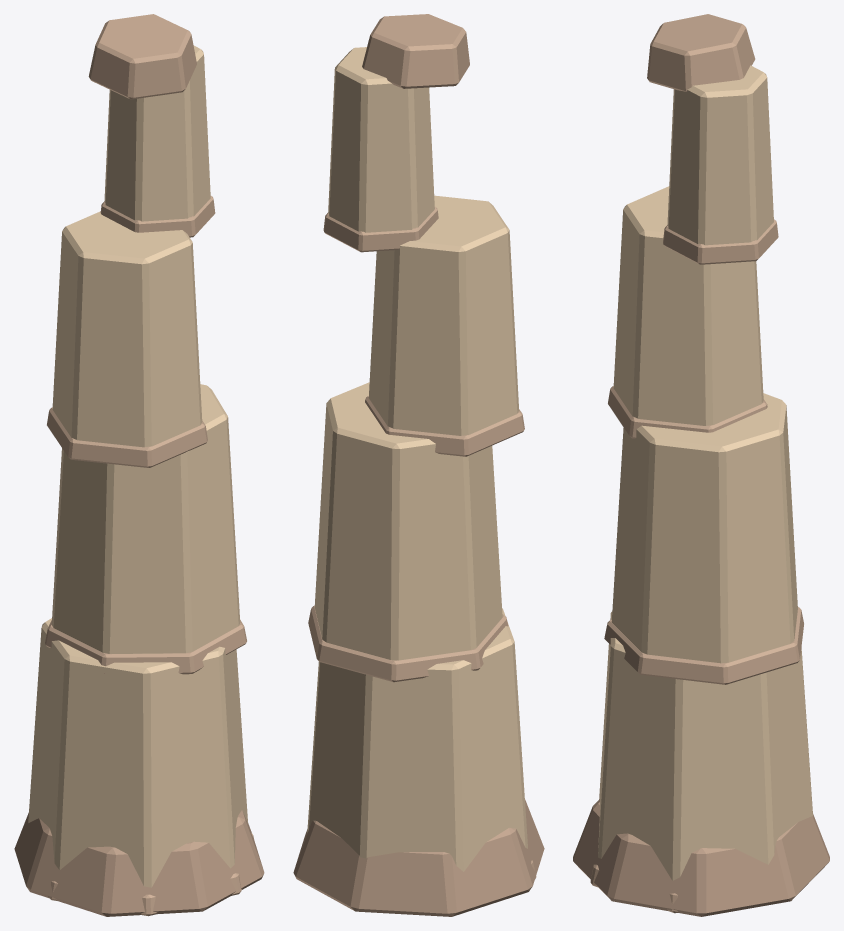
File: mesa_spire_large.glb
The picture shows the model from 3 angles, left to right: view 1: azimuth 30°, elevation 25°; view 2: azimuth 150°, elevation 25°; view 3: azimuth 270°, elevation 25°; orthographic projection.
Parts seen in each view (by area): view 1: Drum1, Drum2, Drum3, Talus, Drum4, Cap, Strata3, Strata2, Strata4, Strata1; view 2: Drum2, Drum1, Drum3, Drum4, Talus, Cap, Strata2, Strata3, Strata4; view 3: Drum2, Drum1, Drum3, Drum4, Talus, Cap, Strata2, Strata4, Strata3.
Boxes of the visible parts, x1,y1,x2,y2 form: Drum1: [28, 618, 247, 887]; Drum2: [51, 384, 240, 653]; Drum3: [52, 211, 202, 447]; Talus: [14, 810, 264, 916]; Drum4: [104, 45, 210, 221]; Cap: [88, 14, 196, 99]; Strata3: [47, 407, 207, 467]; Strata2: [45, 619, 246, 674]; Strata4: [100, 196, 215, 237]; Strata1: [48, 833, 254, 916]; Drum2: [314, 382, 502, 660]; Drum1: [307, 608, 527, 871]; Drum3: [368, 195, 519, 435]; Drum4: [328, 47, 434, 232]; Talus: [293, 799, 544, 916]; Cap: [362, 14, 469, 88]; Strata2: [308, 605, 508, 682]; Strata3: [365, 396, 524, 456]; Strata4: [323, 207, 438, 252]; Drum2: [611, 393, 797, 663]; Drum1: [598, 611, 812, 880]; Drum3: [613, 186, 763, 425]; Drum4: [667, 65, 773, 245]; Talus: [573, 799, 829, 916]; Cap: [647, 14, 755, 91]; Strata2: [604, 607, 803, 684]; Strata4: [663, 219, 778, 264]; Strata3: [608, 386, 767, 438].
Bounding box in the file's own units: 1.48 × 5.31 × 1.48.
